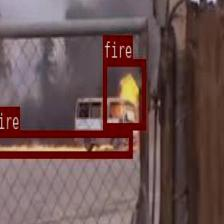fire: (0, 130, 131, 156), (103, 59, 145, 128)
